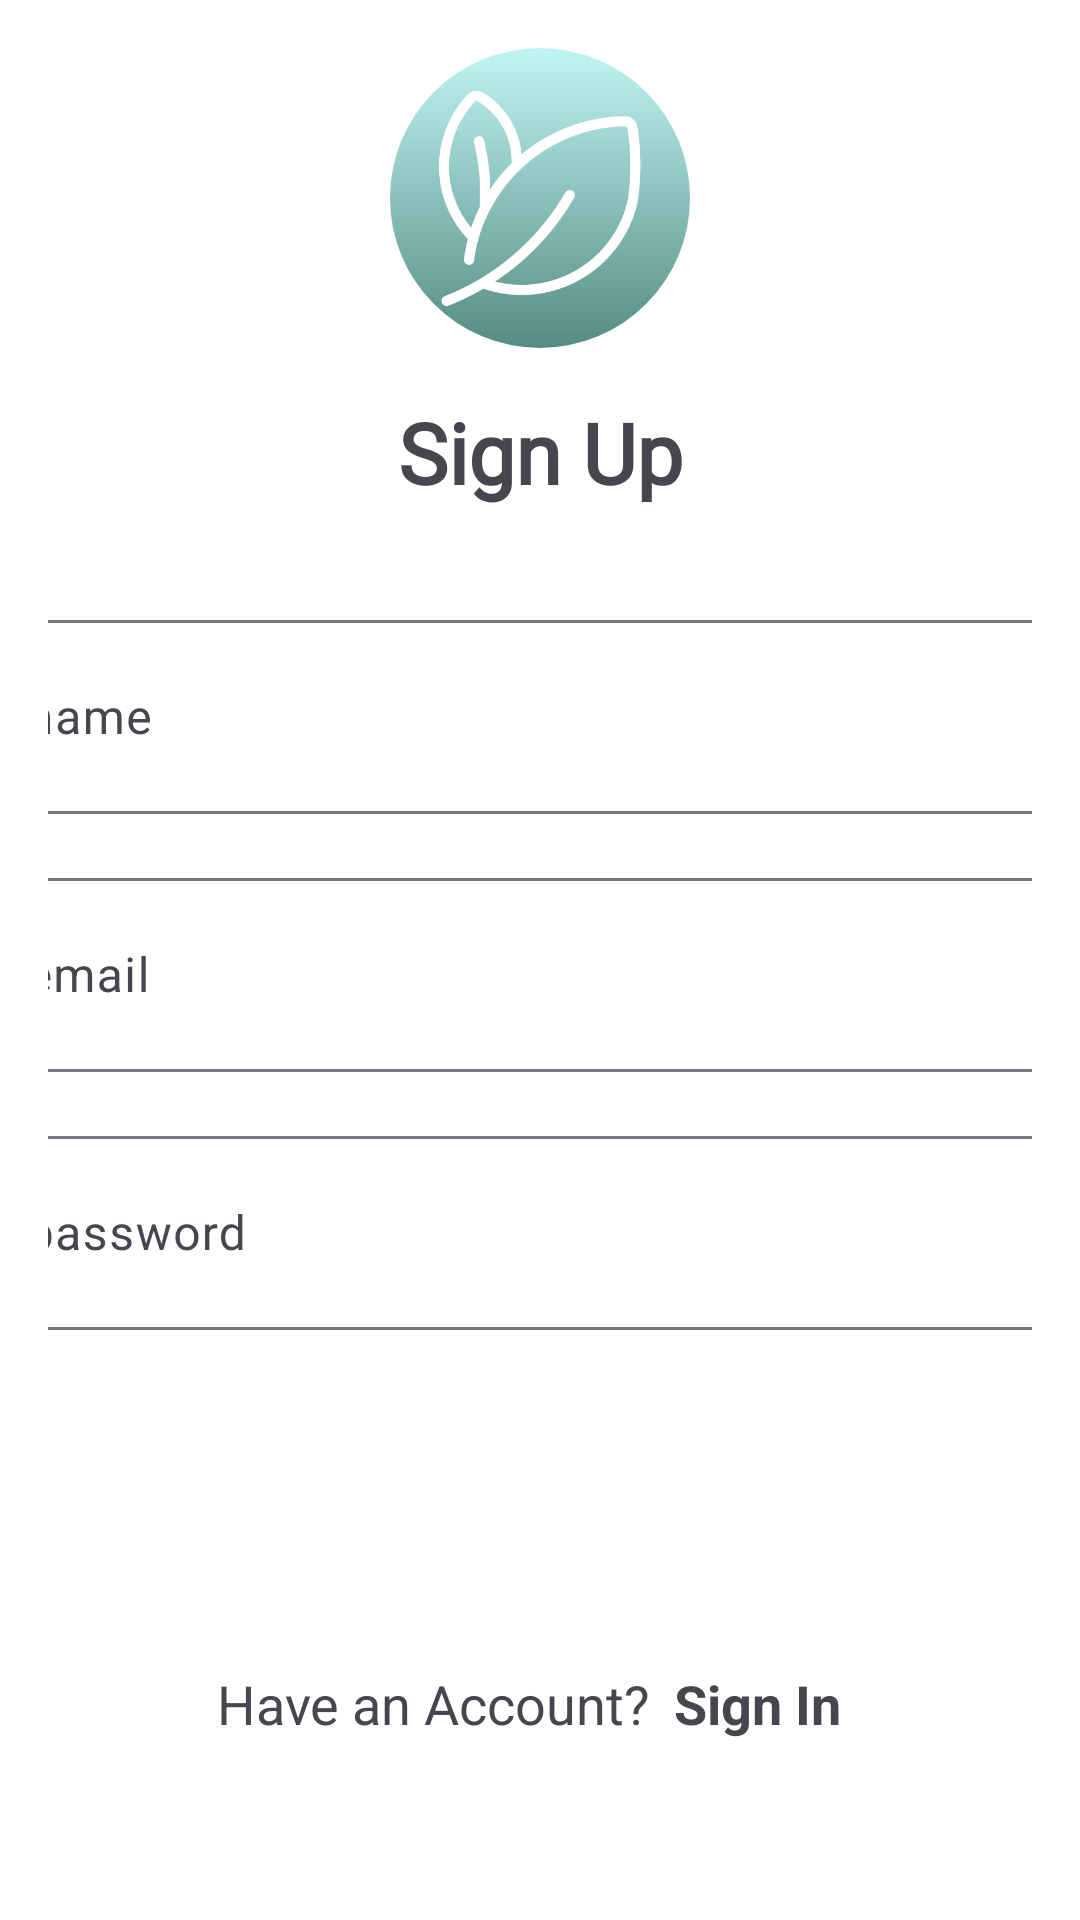

Screen size 1080*1920. Icon name, then its center in pixels as (x=x, y=y):
leaves: (x=540, y=198)
